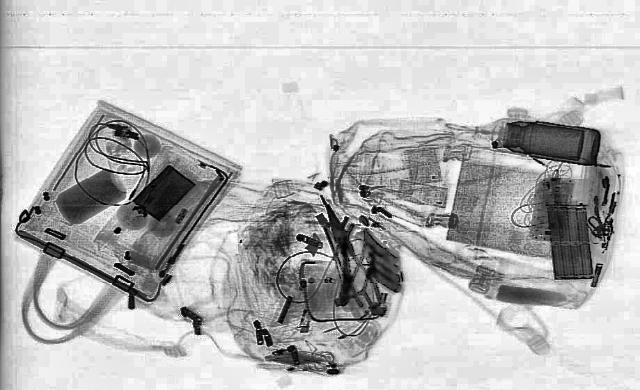Pliers: (310, 204, 388, 306)
